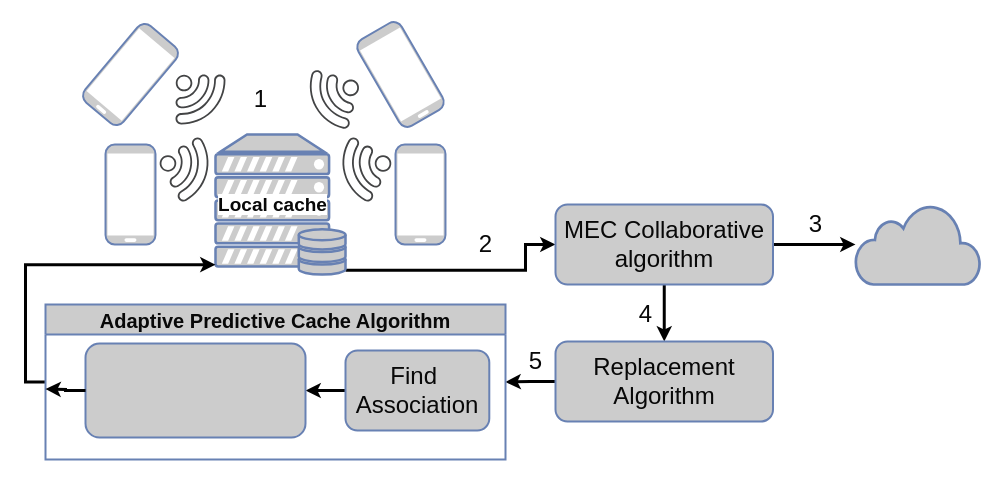
This 999x478 diagram has some shape labels left out. Here are the shapes that lost their labels. From the top down, the centre of each, then its label:
At point 917,244: "Cloud".
At point 195,390: "Prefetch based on Association Rules".
